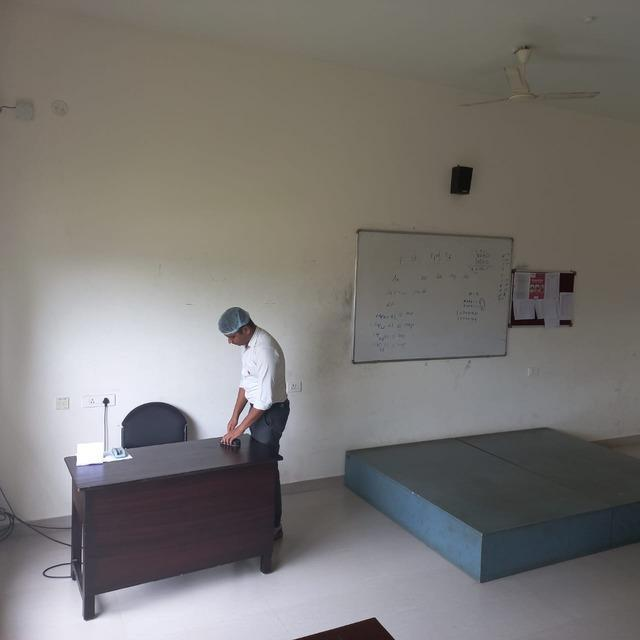bare_hand: (222, 414, 244, 434), (223, 427, 241, 448)
